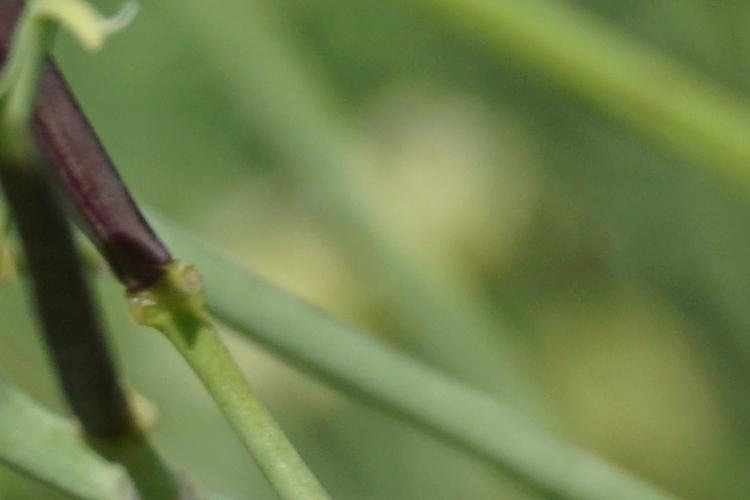pod: (4, 150, 170, 479), (13, 37, 198, 320)
